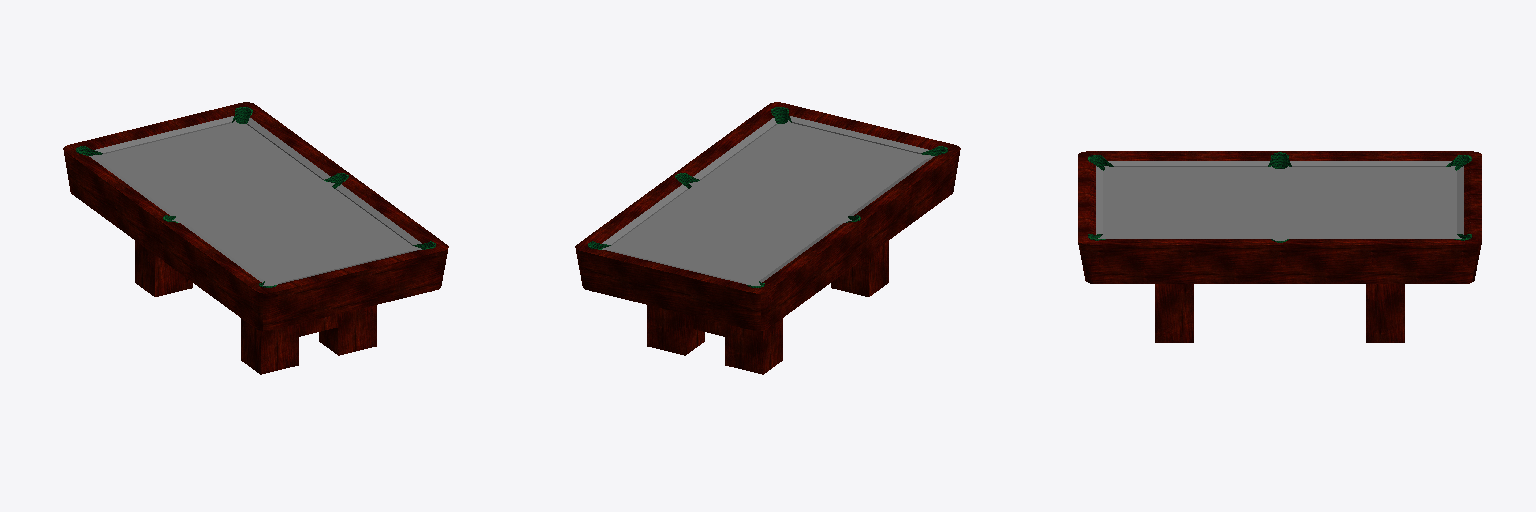
3 renders of one model, left to right at view 1: azimuth 30°, elevation 25°; view 2: azimuth 150°, elevation 25°; view 3: azimuth 270°, elevation 25°, orthographic.
Visible parts, largest first — view 1: Table_Cylinder_Cylinder.001, Felt_Cylinder_Cylinder.000, Felt_Cylinder_Cylinder.001; view 2: Table_Cylinder_Cylinder.001, Felt_Cylinder_Cylinder.000, Felt_Cylinder_Cylinder.001; view 3: Table_Cylinder_Cylinder.001, Felt_Cylinder_Cylinder.000, Felt_Cylinder_Cylinder.001.
Boxes of the visible parts, x1=… form: Table_Cylinder_Cylinder.001: x1=63, y1=102, x2=448, y2=374; Felt_Cylinder_Cylinder.000: x1=89, y1=116, x2=421, y2=285; Felt_Cylinder_Cylinder.001: x1=76, y1=107, x2=435, y2=287; Table_Cylinder_Cylinder.001: x1=575, y1=102, x2=960, y2=374; Felt_Cylinder_Cylinder.000: x1=602, y1=116, x2=934, y2=285; Felt_Cylinder_Cylinder.001: x1=588, y1=107, x2=947, y2=287; Table_Cylinder_Cylinder.001: x1=1078, y1=151, x2=1481, y2=342; Felt_Cylinder_Cylinder.000: x1=1096, y1=161, x2=1463, y2=240; Felt_Cylinder_Cylinder.001: x1=1088, y1=152, x2=1471, y2=242.
Size of the model in its own units: 1.41 by 0.8301 by 2.59.
Materials: 3 (2 with a texture image).